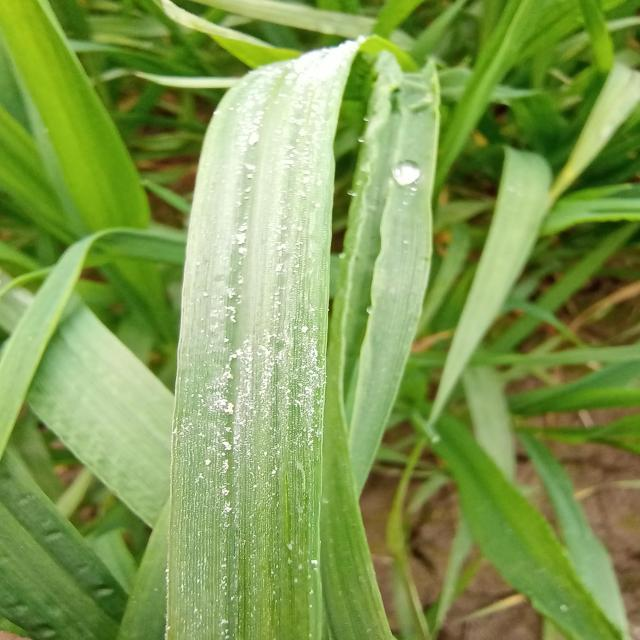Powdery Mildew: (179, 187, 335, 638)
